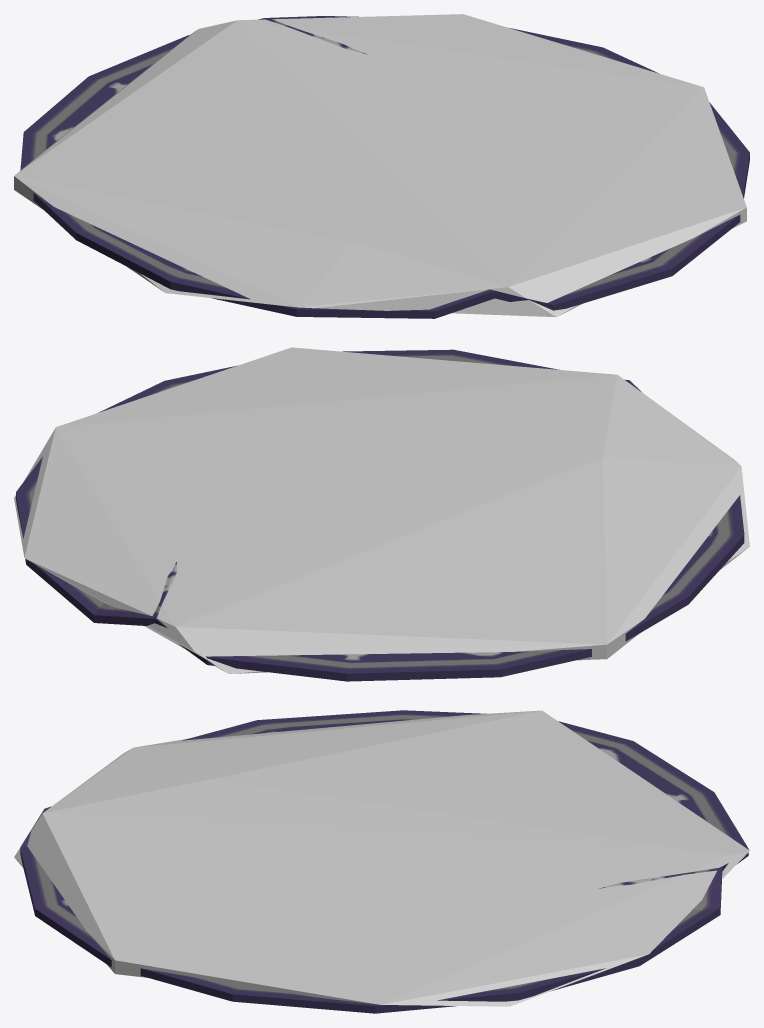
Rendered from SM_Prop_Rug_04.fbx.
3 renders of one model, top to bottom at view 1: azimuth 30°, elevation 25°; view 2: azimuth 150°, elevation 25°; view 3: azimuth 270°, elevation 25°, orthographic. The views are drawn at different scales.
Parts seen in each view (by area): view 1: SM_Prop_Rug_04_ConvexHulls, SM_Prop_Rug_04; view 2: SM_Prop_Rug_04_ConvexHulls, SM_Prop_Rug_04; view 3: SM_Prop_Rug_04_ConvexHulls, SM_Prop_Rug_04.
Boxes of the visible parts, bbox=[...] form: SM_Prop_Rug_04_ConvexHulls: bbox=[14, 14, 746, 317]; SM_Prop_Rug_04: bbox=[20, 16, 749, 318]; SM_Prop_Rug_04_ConvexHulls: bbox=[14, 347, 749, 673]; SM_Prop_Rug_04: bbox=[16, 349, 744, 681]; SM_Prop_Rug_04_ConvexHulls: bbox=[14, 710, 749, 1006]; SM_Prop_Rug_04: bbox=[20, 710, 748, 1013].
Bounding box in the file's own units: 287 × 300 × 12.82.
2 materials, 1 textured.
